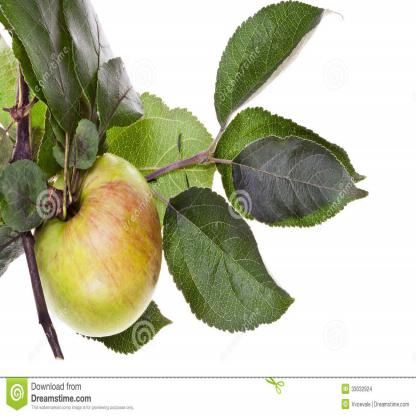apple leaf: (161, 188, 300, 344), (213, 107, 378, 238), (209, 2, 342, 126)
